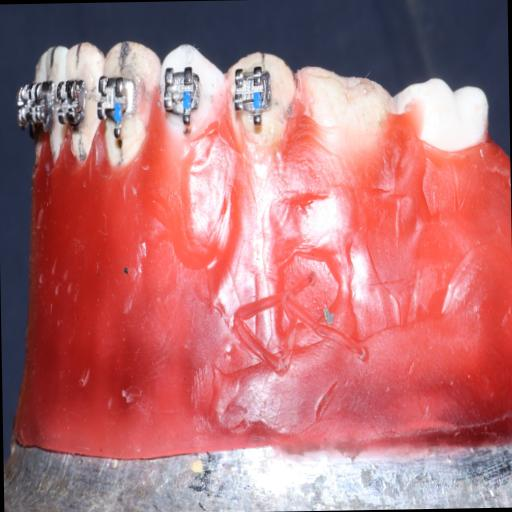incorrect_brace: (232, 65, 276, 116)
